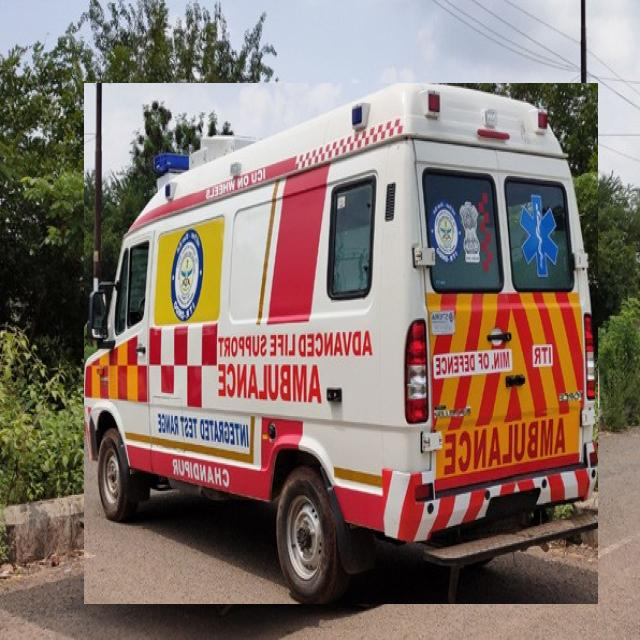emergency: (85, 84, 598, 604)
